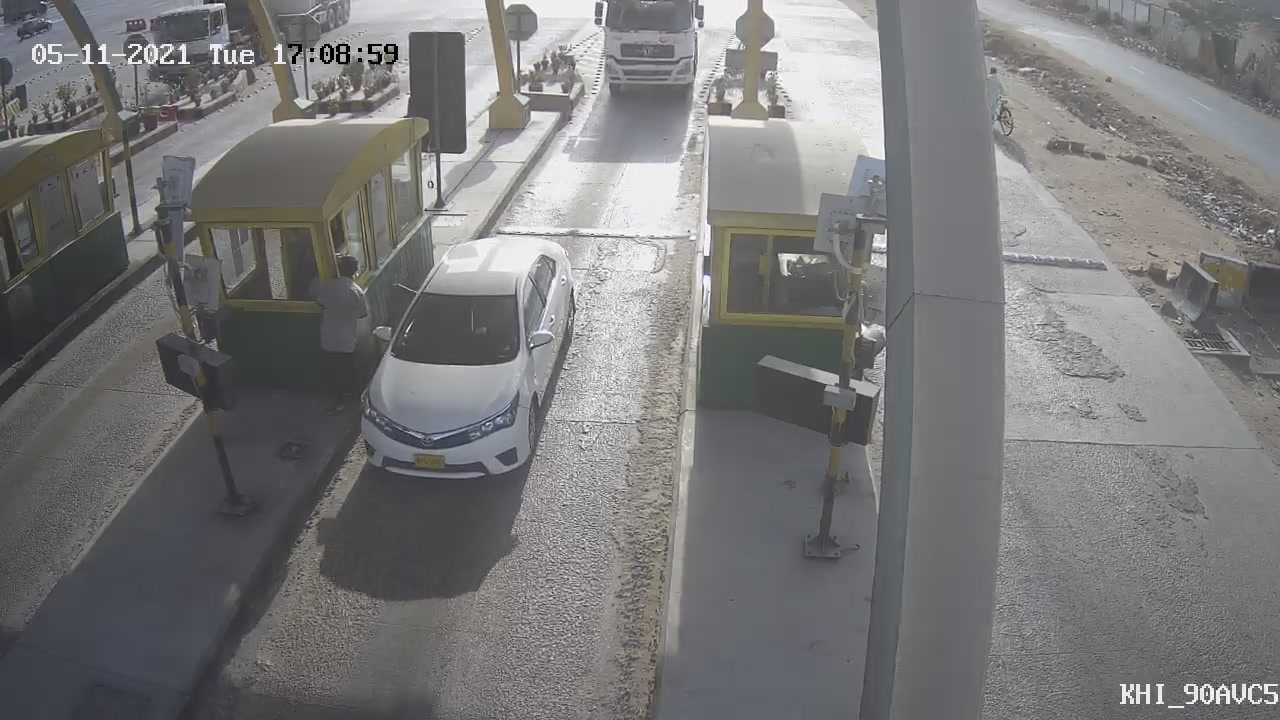F1: (338, 221, 594, 498)
